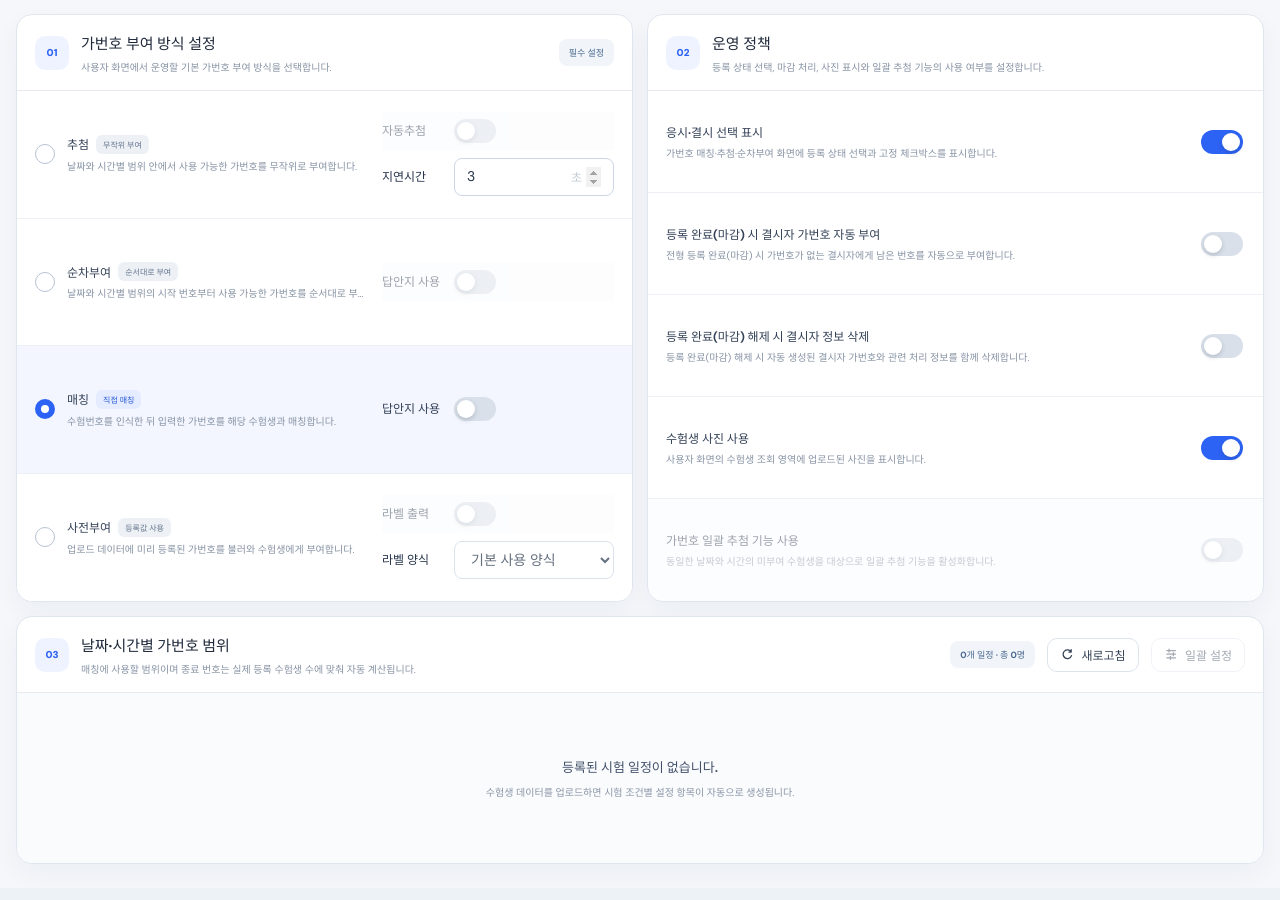
Test case: SystemSettingsPage optimistic save › sends the loaded version and keeps edits after a concurrent-save conflict
Step 1. Click the checkbox labelled "수험생 사진 사용 사용자 화면의 수험생 조회 영역에 업로드된 사진을 표시합니다." → (707, 438), box [648,397,1263,499]
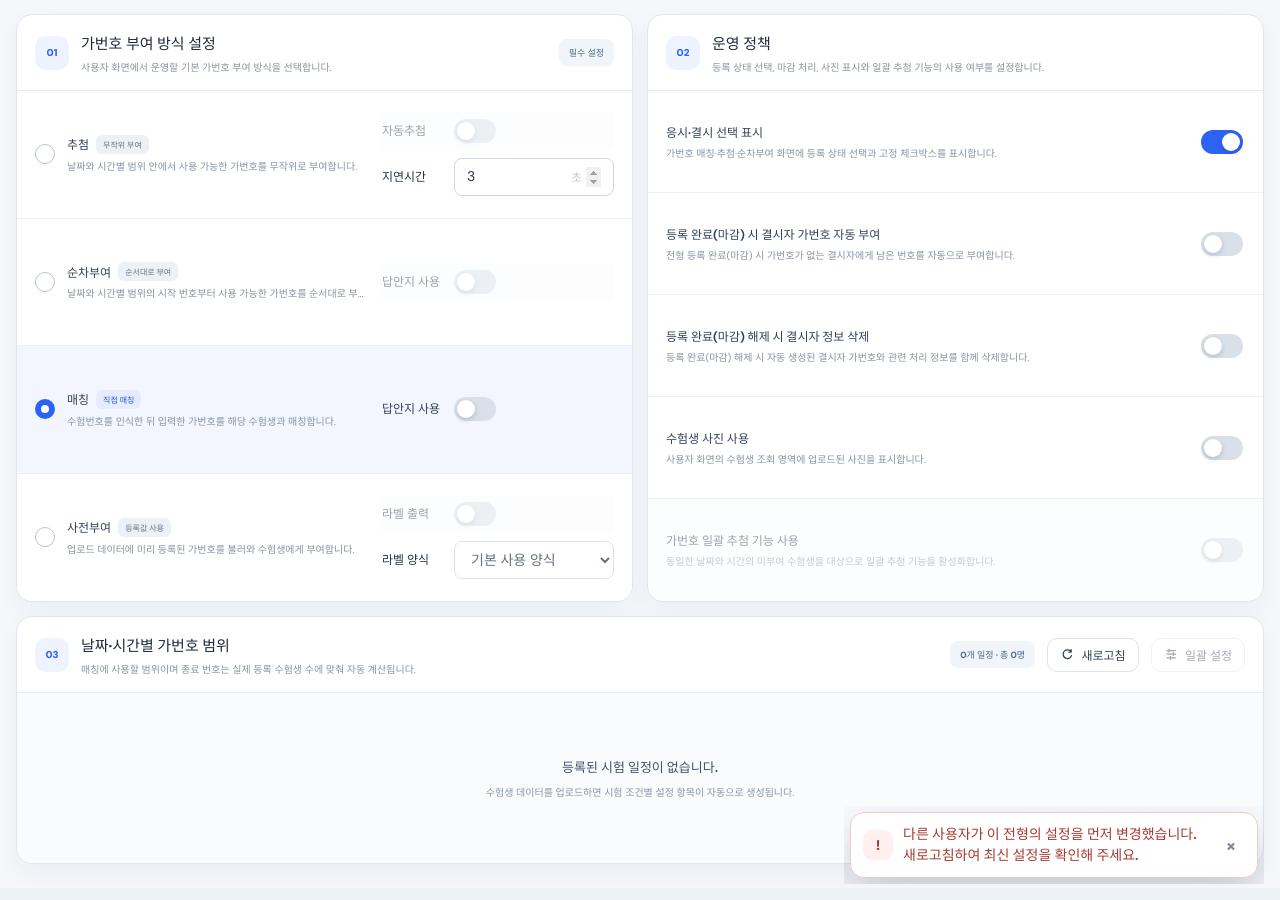
Check: the checkbox labelled "수험생 사진 사용 사용자 화면의 수험생 조회 영역에 업로드된 사진을 표시합니다." is not checked, box [648,397,1263,499]
Check: the message shows "새로고침하여 최신 설정을 확인해 주세요.", box [903,825,1200,864]
